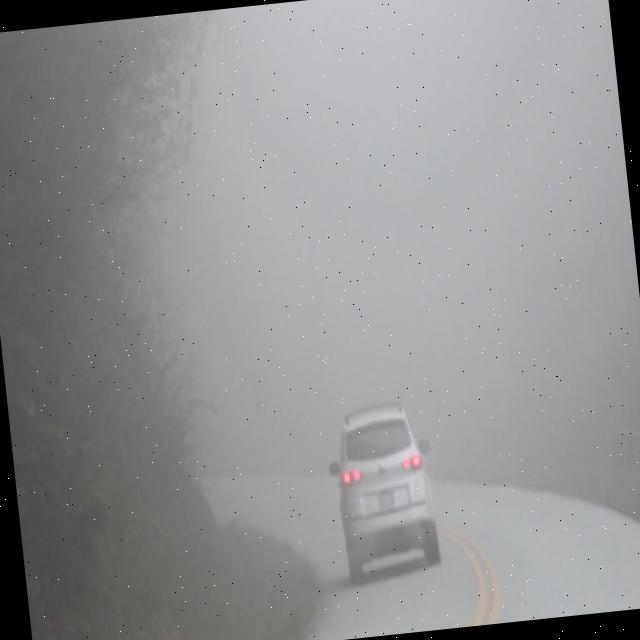car: (328, 401, 444, 583)
